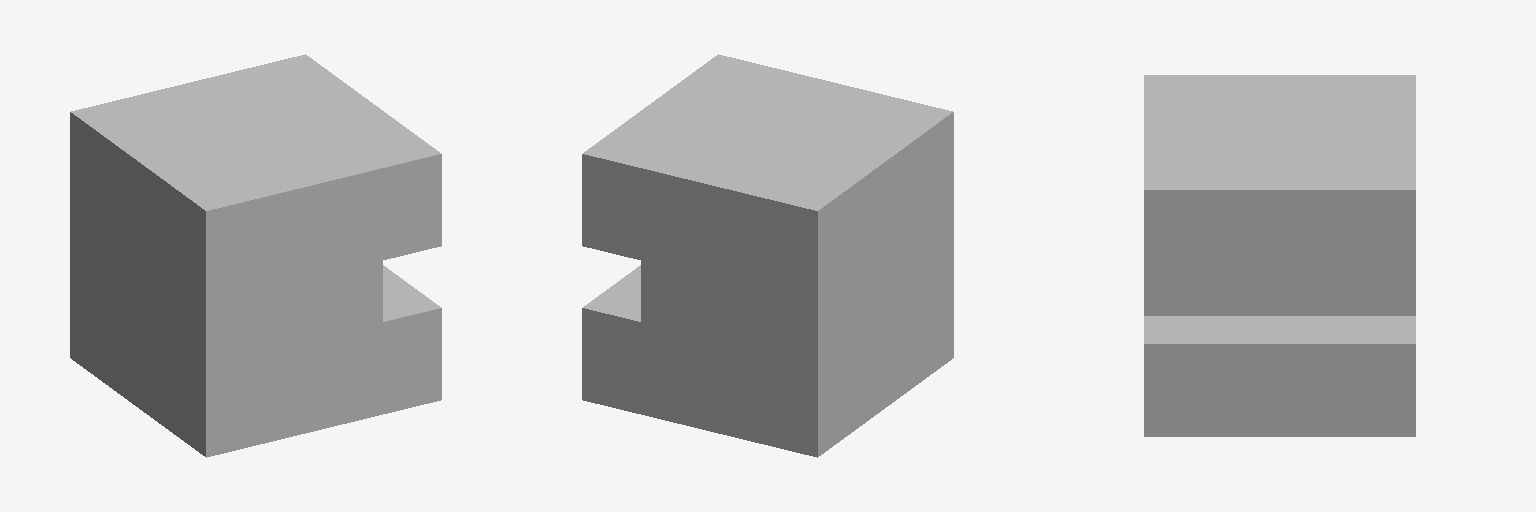
The model's file is inset_rect.obj.
3 renders of one model, left to right at view 1: azimuth 30°, elevation 25°; view 2: azimuth 150°, elevation 25°; view 3: azimuth 270°, elevation 25°, orthographic.
Parts seen in each view (by area): view 1: Cube; view 2: Cube; view 3: Cube.
Part boxes in pixels (left/top/right/bottom): Cube: left=70, top=54, right=441, bottom=457; Cube: left=582, top=54, right=953, bottom=457; Cube: left=1144, top=75, right=1415, bottom=436.
Size of the model in its own units: 2 by 2 by 2.